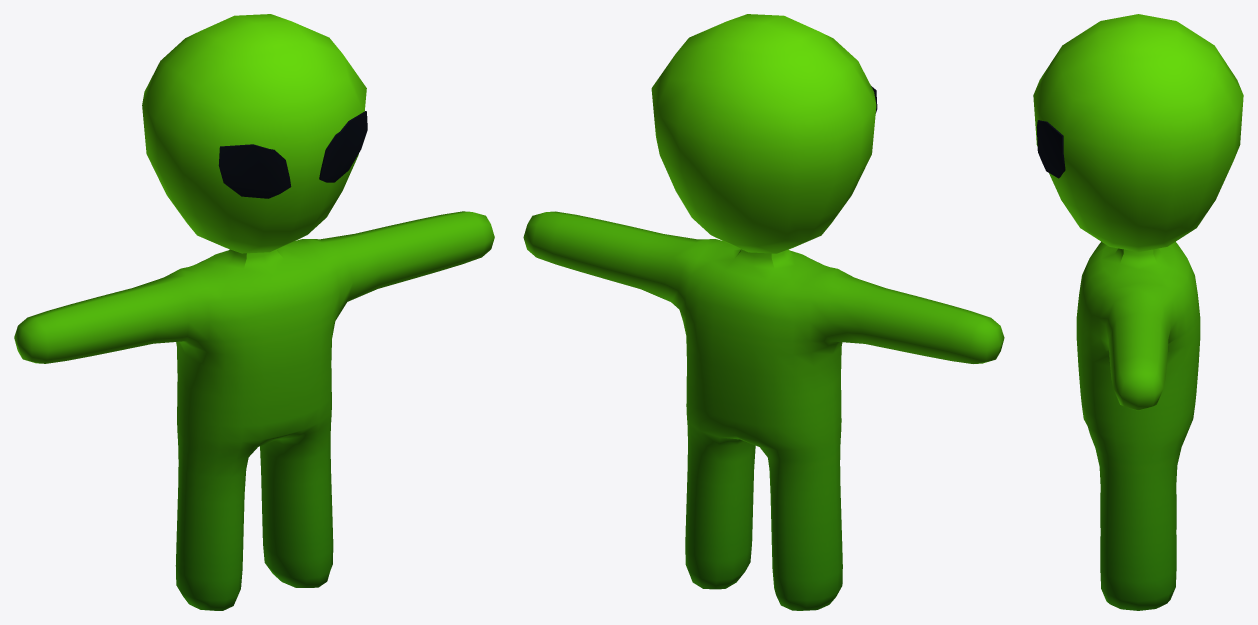
File: Alien_Stickman.fbx
The picture shows the model from 3 angles, left to right: view 1: azimuth 30°, elevation 25°; view 2: azimuth 150°, elevation 25°; view 3: azimuth 270°, elevation 25°; orthographic projection.
Visible parts, largest first — view 1: Stickman_Alien; view 2: Stickman_Alien; view 3: Stickman_Alien.
Part boxes in pixels (<box>): Stickman_Alien: <box>14,14,494,610</box>; Stickman_Alien: <box>523,14,1004,610</box>; Stickman_Alien: <box>1033,14,1243,610</box>.
Bounding box in the file's own units: 361 × 1059 × 919.
